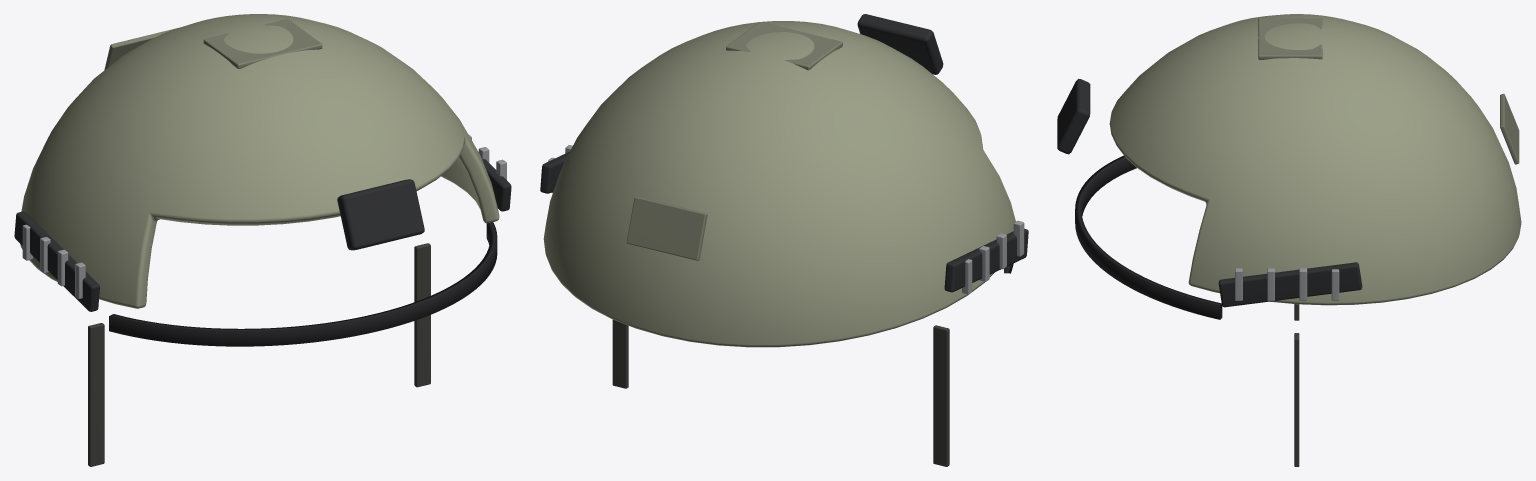
File: helmet_ballistic_CT.glb
3 views of the same model, side by side, from view 1: azimuth 30°, elevation 25°; view 2: azimuth 150°, elevation 25°; view 3: azimuth 270°, elevation 25° (orthographic). The views are drawn at different scales.
Visible parts, largest first — view 1: helmet@Head; view 2: helmet@Head; view 3: helmet@Head.
Boxes of the visible parts, x1,y1,x2,y2 form: helmet@Head: (14,14,511,466); helmet@Head: (540,14,1028,466); helmet@Head: (1057,14,1521,466).
Bounding box in the file's own units: 0.3527 × 0.3054 × 0.3605.
